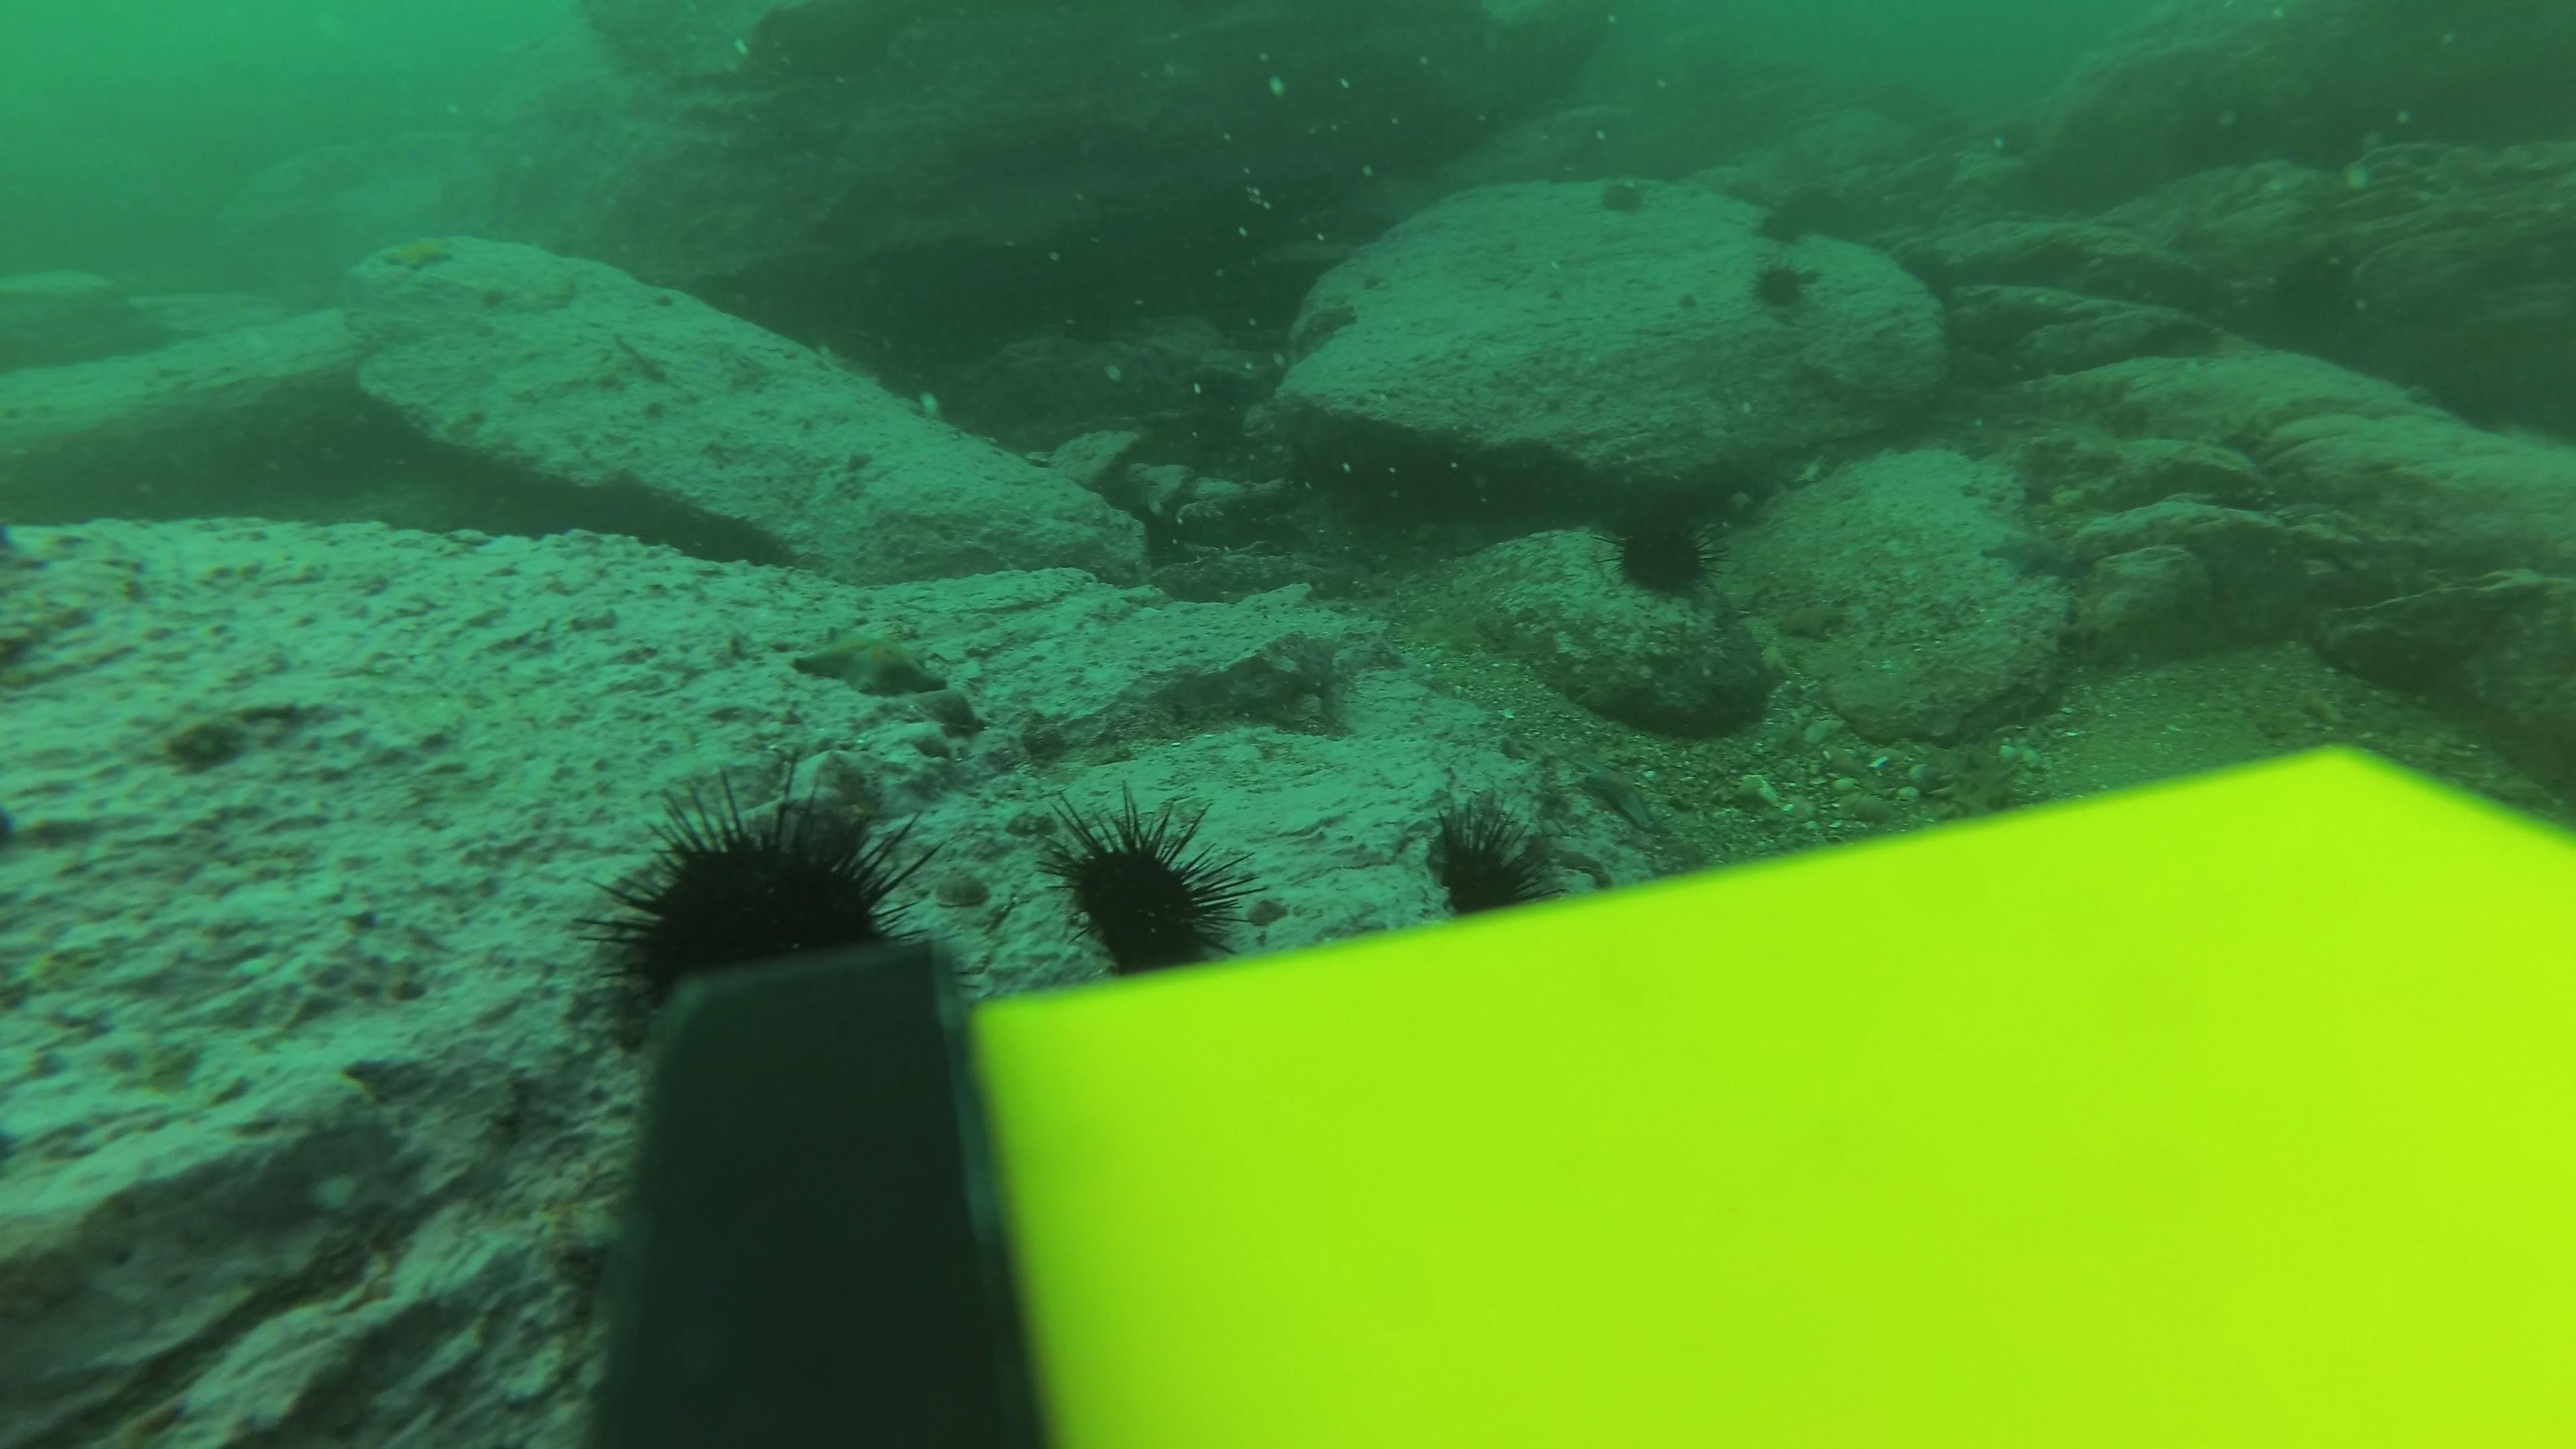echinus: (589, 777, 925, 1005), (1040, 789, 1254, 973), (1414, 794, 1566, 920), (1599, 497, 1725, 605), (1741, 249, 1824, 320)
starfish: (782, 623, 957, 702), (1571, 759, 1670, 835), (1980, 522, 2093, 586), (1284, 292, 1364, 352), (370, 228, 462, 280)
